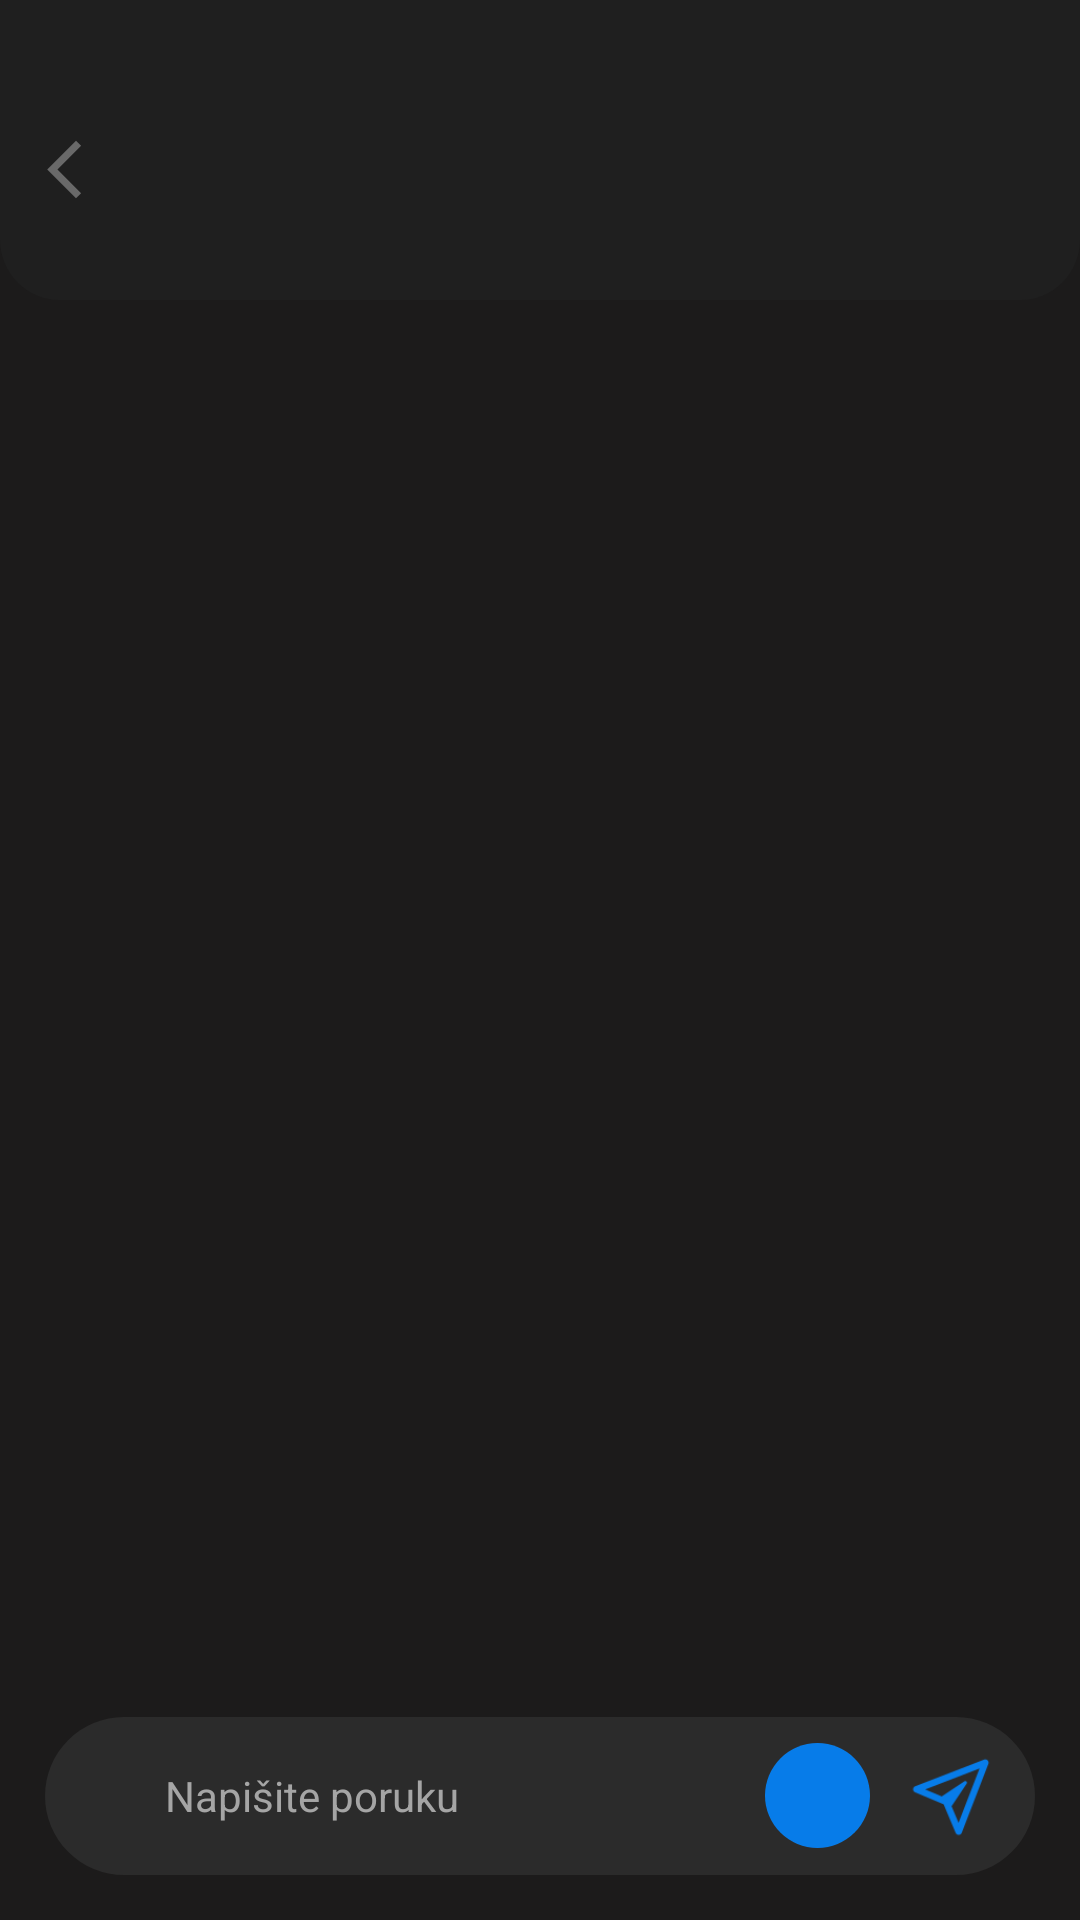

Named icons in this screenshot (1080px×1920px) and their bounding boxes, (x1, y1, x2, y2):
back arrow: (47, 141, 81, 198)
send: (912, 1759, 989, 1836)
